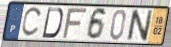0: (109, 9, 128, 42)
6: (85, 7, 109, 43)
C: (20, 6, 43, 38)
D: (40, 7, 64, 40)
F: (60, 7, 89, 41)
N: (126, 9, 155, 43)
